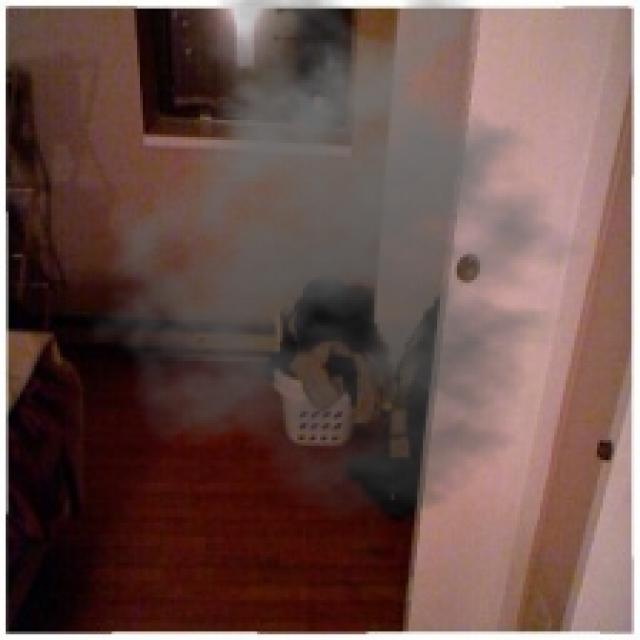smoke: (86, 0, 611, 520)
